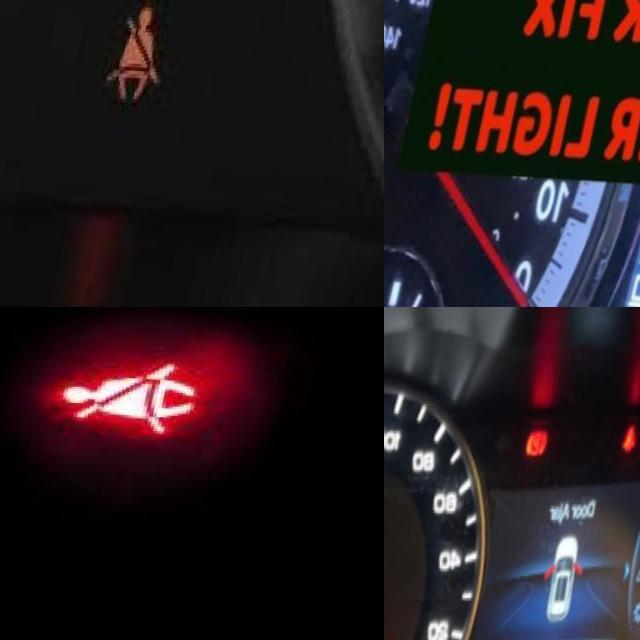Seat Belt: (65, 353, 207, 428), (123, 1, 184, 98), (625, 414, 640, 450)
